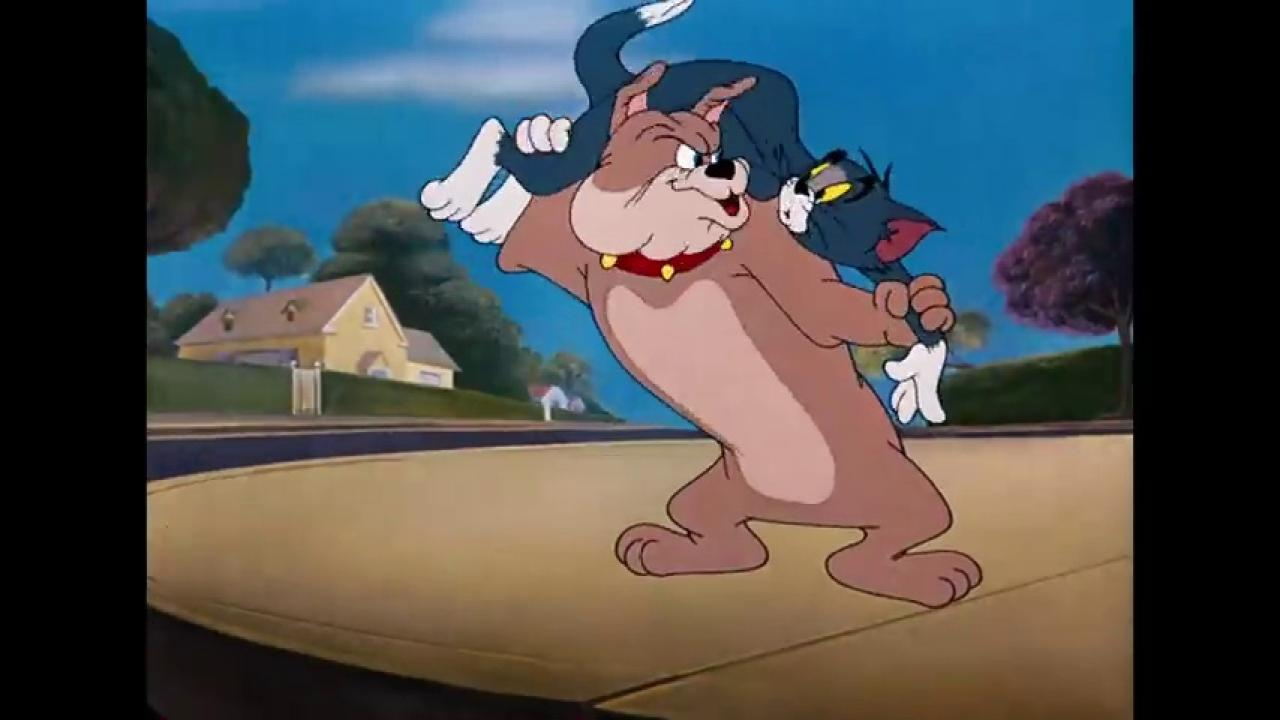Tom: (419, 0, 950, 426)
